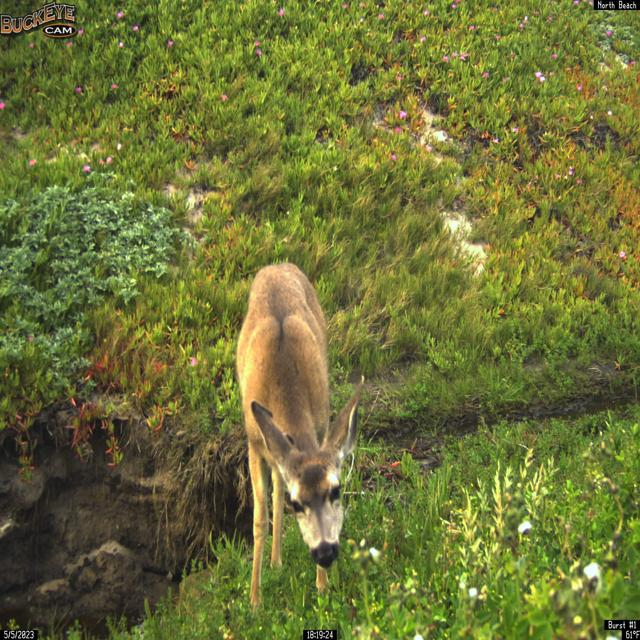deer: (234, 261, 364, 614)
